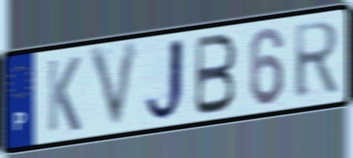6: (247, 25, 286, 108)
B: (192, 31, 239, 119)
J: (142, 35, 189, 125)
K: (45, 54, 82, 135)
R: (291, 18, 342, 103)
V: (86, 38, 143, 136)
